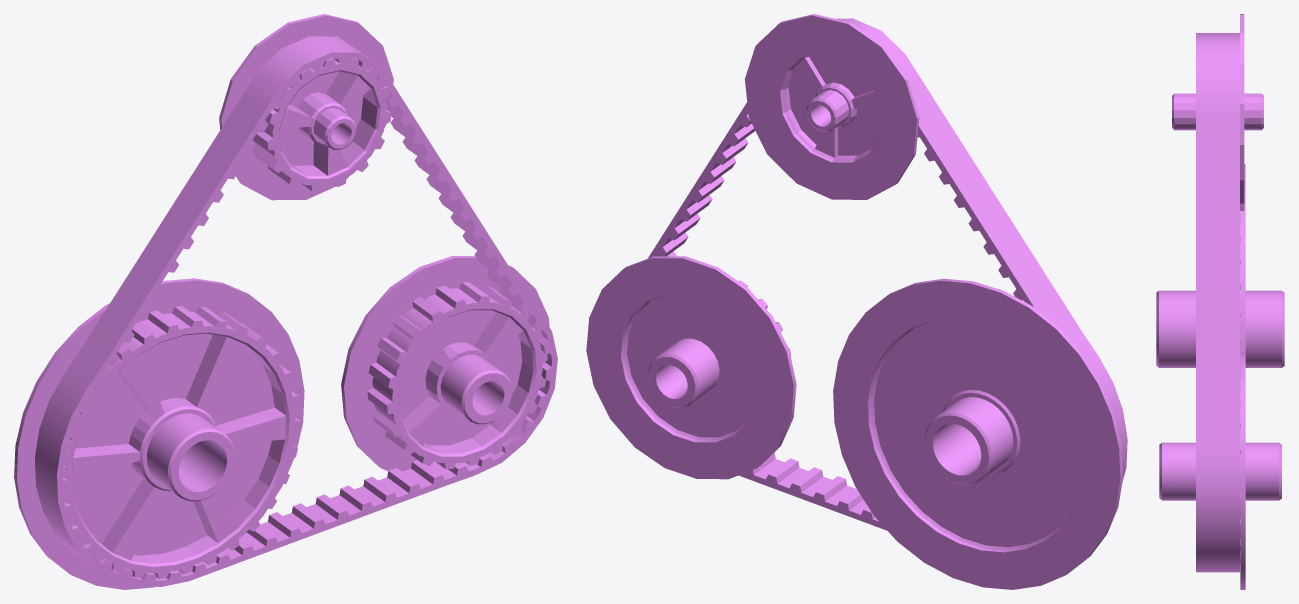
The picture shows the model from 3 angles, left to right: view 1: azimuth 30°, elevation 25°; view 2: azimuth 150°, elevation 25°; view 3: azimuth 270°, elevation 25°; orthographic projection.
Parts seen in each view (by area): view 1: Object003; view 2: Object003; view 3: Object003.
Boxes of the visible parts, x1=… form: Object003: x1=14, y1=14, x2=557, y2=589; Object003: x1=586, y1=14, x2=1127, y2=589; Object003: x1=1156, y1=14, x2=1284, y2=589.
Bounding box in the file's own units: 279 × 58.56 × 265.
